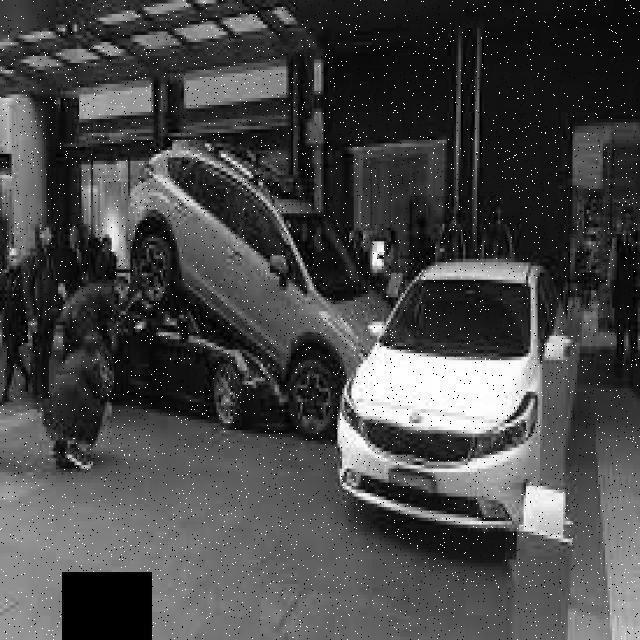accident: (87, 128, 397, 440)
vehicle: (338, 259, 582, 534)
